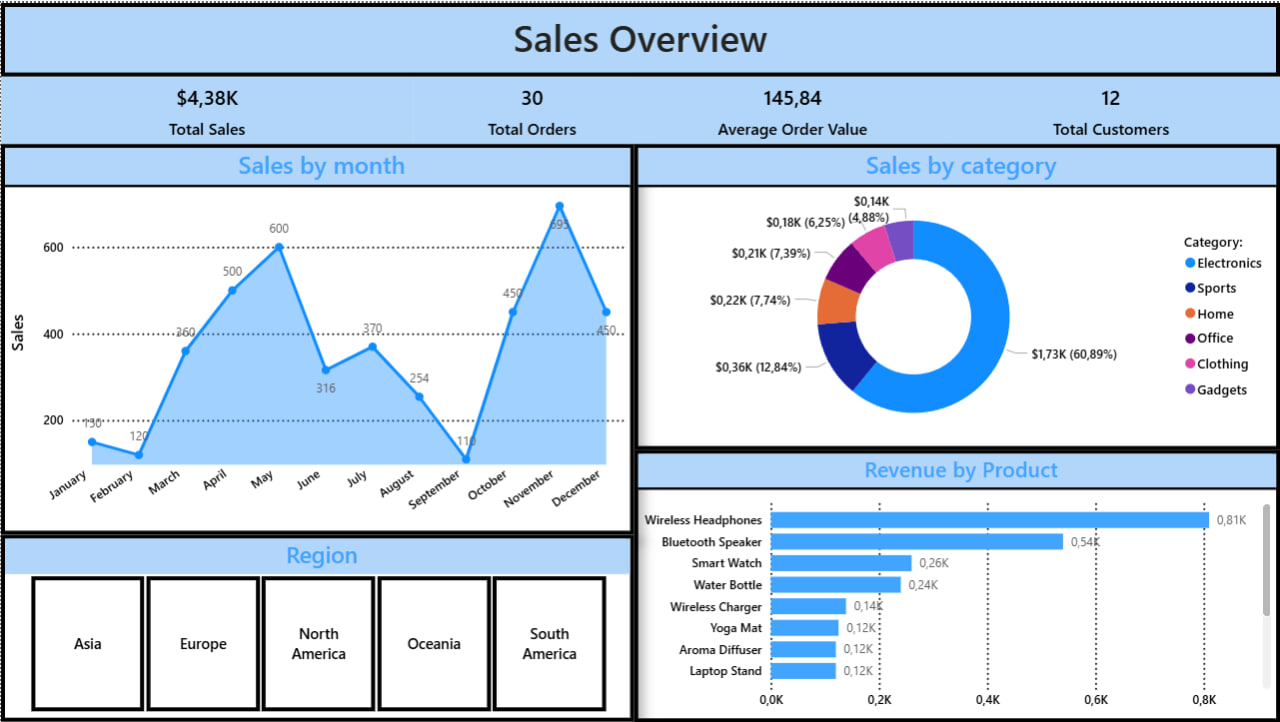

The dashboard page shown, as its layout file describes it:
{"tool":"powerbi","page":{"name":"Sales Overview","canvas":[1280,720],"ordinal":0},"visuals":[{"type":"lineChart","title":"Sales by month","fields":{"Y":["ecommerce_analysis orders.Total Sales"],"Category":["ecommerce_analysis orders.MonthName"]},"box":[0,141.2,633.8,391.2],"z":0},{"type":"slicer","title":"Region","fields":{"Values":["ecommerce_analysis customers.region"]},"box":[0,532.5,633.8,187.5],"z":1000},{"type":"donutChart","title":"Sales by category","fields":{"Category":["ecommerce_analysis products.category"],"Y":["ecommerce_analysis orders.Total Sales1"]},"box":[633.8,141.2,646.2,306.2],"z":2000},{"type":"clusteredBarChart","title":"Revenue by Product","fields":{"Category":["ecommerce_analysis products.name"],"Y":["ecommerce_analysis orders.Total Sales1"]},"box":[633.8,447.5,646.2,272.5],"z":3000},{"type":"card","fields":{"Values":["ecommerce_analysis orders.Total Sales"]},"box":[0.1,74.2,412.8,67.4],"z":4000},{"type":"card","fields":{"Values":["ecommerce_analysis orders.Total Orders"]},"box":[412.9,74.2,238.4,67.4],"z":5000},{"type":"card","fields":{"Values":["ecommerce_analysis orders.Average Order Value"]},"box":[633.8,74.2,317.4,67.4],"z":6000},{"type":"card","fields":{"Values":["ecommerce_analysis orders.Total Customers"]},"box":[943.1,74.2,337.2,67.4],"z":7000},{"type":"textbox","box":[0,0,1280,73.8],"z":8000}]}

Visuals, with their boxes in screenshot pixels (x1, y1, x2, y2), scaled from the page's 1280x720 canvas onto the 1280x722 screenshot:
"Sales by month" lineChart: l=0, t=142, r=634, b=534
"Region" slicer: l=0, t=534, r=634, b=721
"Sales by category" donutChart: l=634, t=142, r=1279, b=449
"Revenue by Product" clusteredBarChart: l=634, t=449, r=1279, b=721
card - ecommerce_analysis orders.Total Sales: l=0, t=74, r=413, b=142
card - ecommerce_analysis orders.Total Orders: l=413, t=74, r=651, b=142
card - ecommerce_analysis orders.Average Order Value: l=634, t=74, r=951, b=142
card - ecommerce_analysis orders.Total Customers: l=943, t=74, r=1279, b=142
textbox: l=0, t=0, r=1279, b=74
